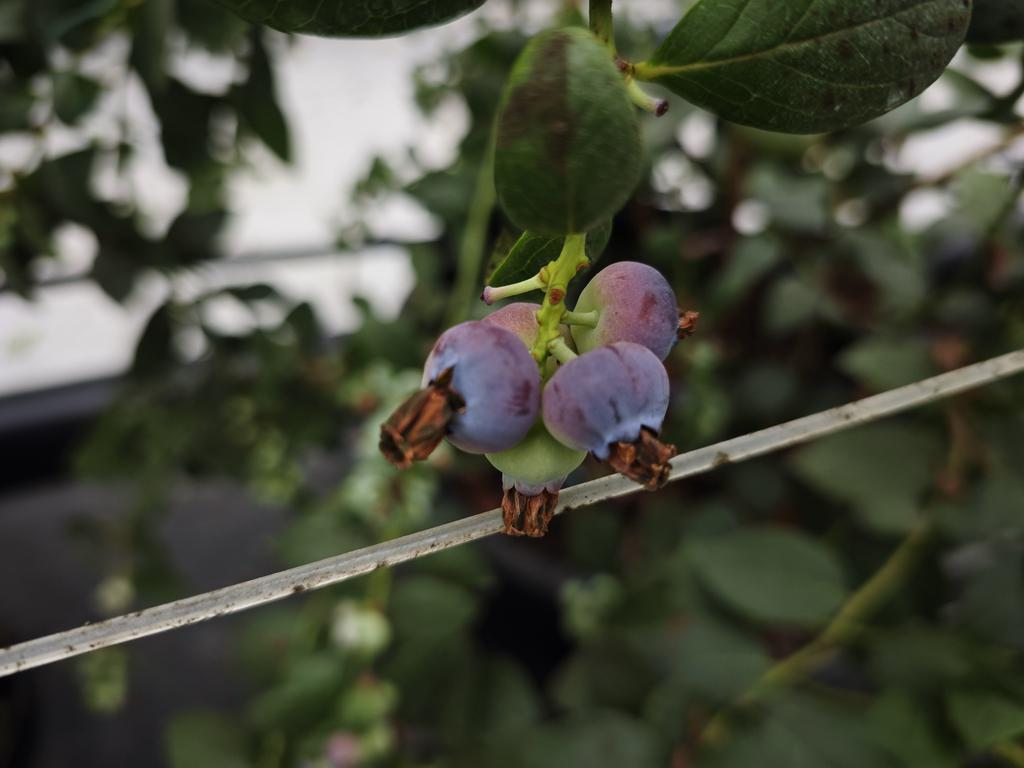Semi-RipeBlueBerry: (539, 339, 672, 468), (417, 318, 536, 455), (575, 257, 684, 362)
